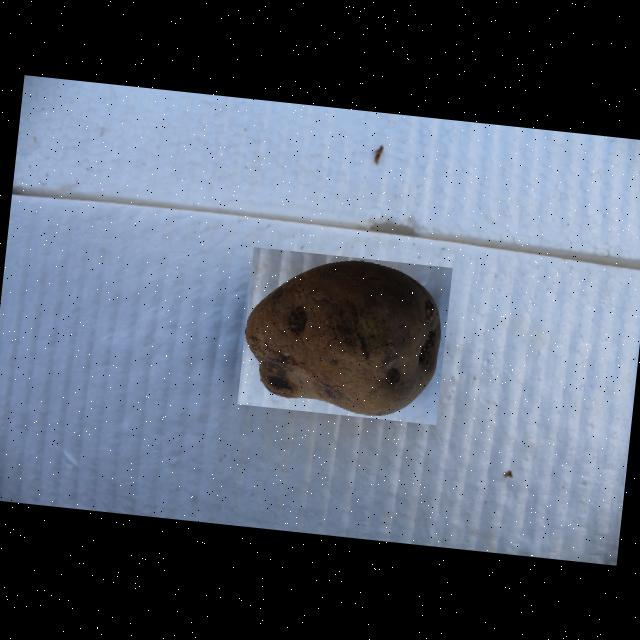Diseased-fungal potato: (237, 246, 452, 424)
